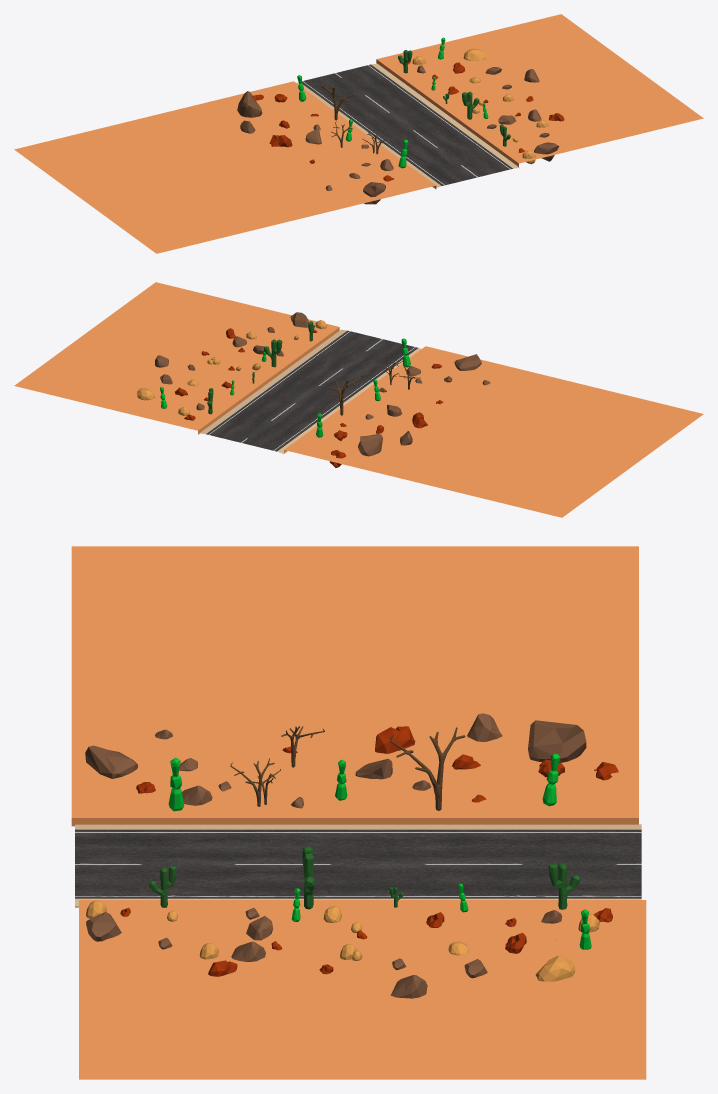
File: sand.glb
3 views of the same model, one above another, from view 1: azimuth 30°, elevation 25°; view 2: azimuth 150°, elevation 25°; view 3: azimuth 270°, elevation 25° (orthographic). The views are drawn at different scales.
Visible parts, largest first — view 1: Cube.001, Cube.002, Cube.003, Cube.050 - copy.030 - copy.019; view 2: Cube.001, Cube.002, Cube.003, Cube.050 - copy.030 - copy.019; view 3: Cube.001, Cube.002, Cube.003, Cube.050 - copy.030 - copy.019, Cube.050 - copy.030 - copy.022, Plane - copy.001 - copy.001, Cube.003 - copy.017 - copy.030.
Part boxes in pixels (left/top/right/bottom): Cube.001: left=14, top=81, right=436, bottom=253; Cube.002: left=376, top=14, right=703, bottom=166; Cube.003: left=296, top=63, right=519, bottom=188; Cube.050 - copy.030 - copy.019: left=237, top=91, right=262, bottom=117; Cube.001: left=284, top=346, right=703, bottom=517; Cube.002: left=14, top=282, right=339, bottom=434; Cube.003: left=199, top=329, right=421, bottom=453; Cube.050 - copy.030 - copy.019: left=358, top=434, right=382, bottom=456; Cube.001: left=71, top=546, right=638, bottom=826; Cube.002: left=79, top=900, right=646, bottom=1079; Cube.003: left=75, top=824, right=641, bottom=907; Cube.050 - copy.030 - copy.019: left=528, top=720, right=586, bottom=762; Cube.050 - copy.030 - copy.022: left=85, top=745, right=137, bottom=778; Plane - copy.001 - copy.001: left=389, top=727, right=465, bottom=810; Cube.003 - copy.017 - copy.030: left=375, top=726, right=415, bottom=753.
Size of the model in its own units: 83.76 by 7.52 by 38.17.
8 materials, 1 textured.
